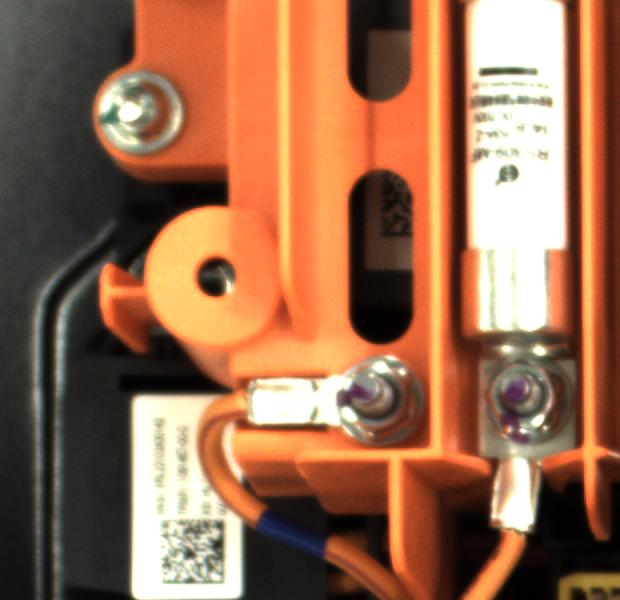screw_m: (80, 59, 203, 164)
screw_s: (474, 349, 572, 452), (325, 360, 426, 447)
